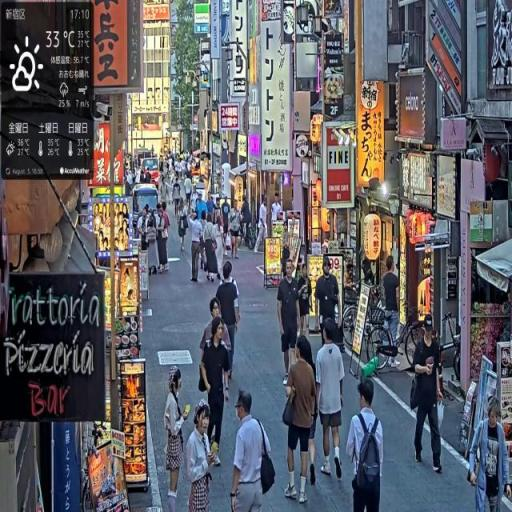person: (283, 335, 318, 506), (231, 389, 278, 512), (411, 316, 446, 475), (315, 319, 348, 486), (347, 378, 384, 512), (200, 320, 233, 469), (469, 399, 512, 512), (164, 368, 191, 512), (186, 401, 220, 512), (215, 260, 242, 387), (278, 259, 303, 385), (315, 256, 341, 346), (383, 255, 401, 358), (296, 265, 313, 342), (190, 207, 204, 284), (157, 204, 171, 274), (230, 201, 243, 262)
